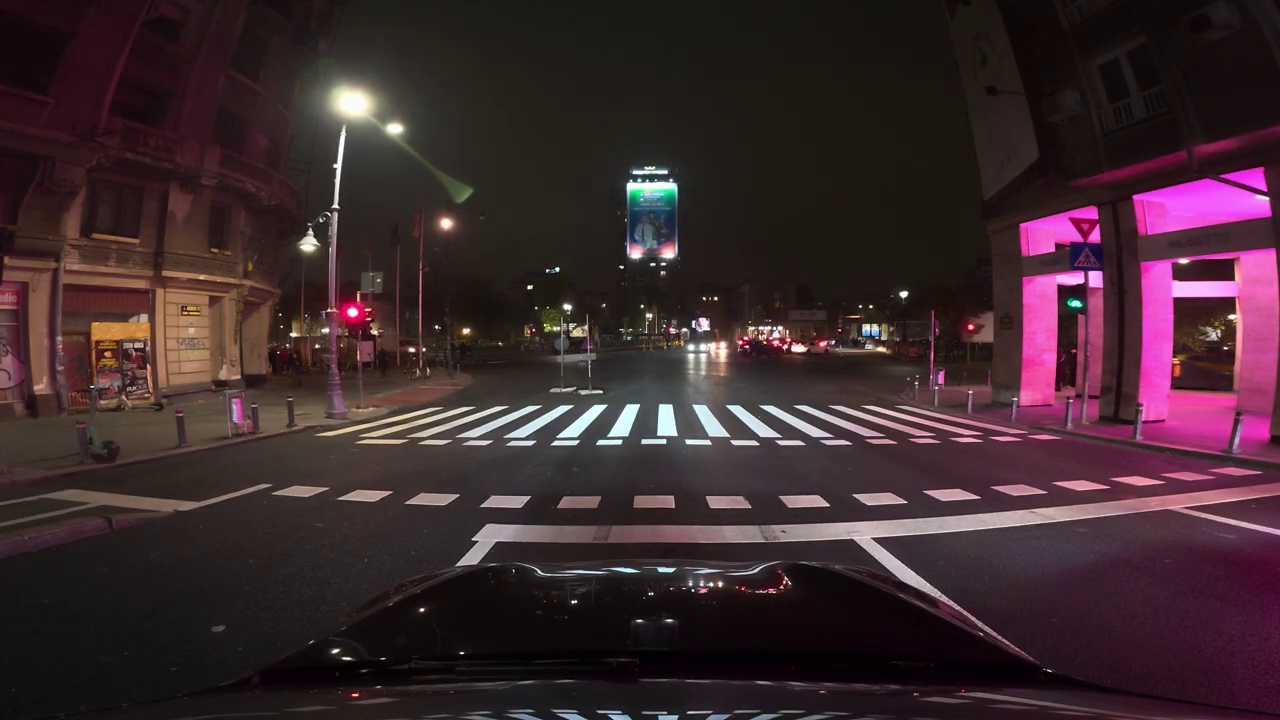acesa: (333, 89, 372, 119), (298, 233, 323, 258), (434, 214, 457, 236), (384, 121, 406, 141)
